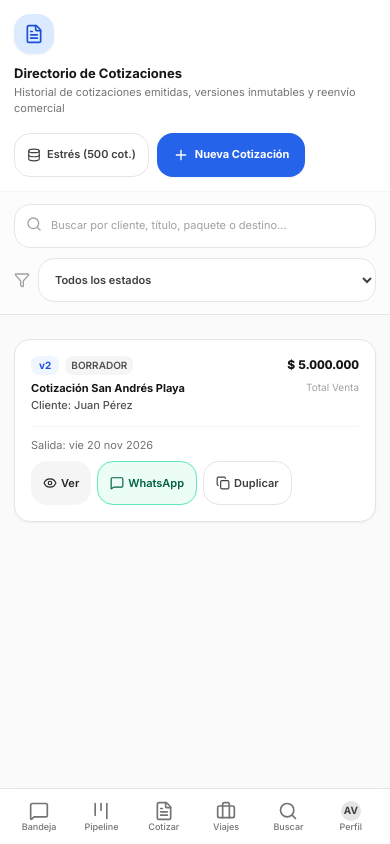
CotizacionesPage (Listado T-107) › duplica una cotización al hacer clic en Duplicar y la añade a la lista
expect the heading "Cotización San Andrés Playa" is shown: met, box [31,380,185,394]
Click the button with test id "btn-duplicar-01932000-0000-7000-8000-000000000001".
click(247, 483)  # box [203,461,292,505]
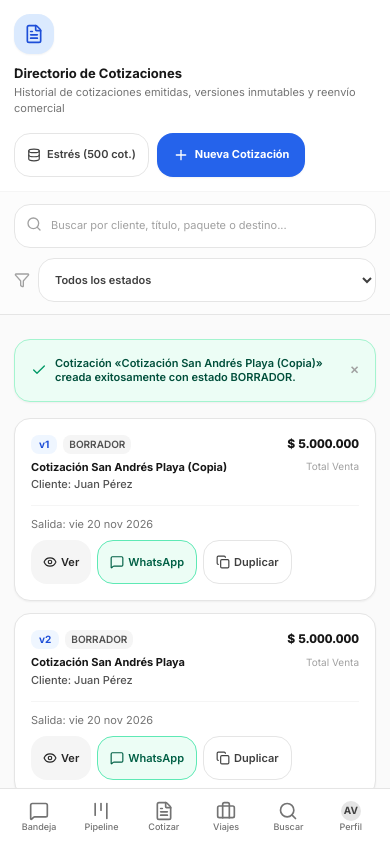
expect the heading "Cotización San Andrés Playa (Copia)" is shown: met, box [31,460,227,474]
